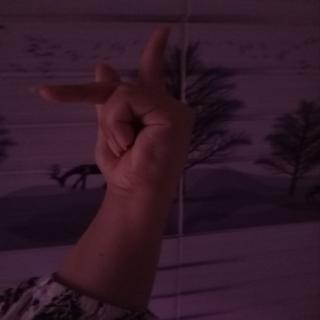DHAA: (32, 23, 206, 207)
